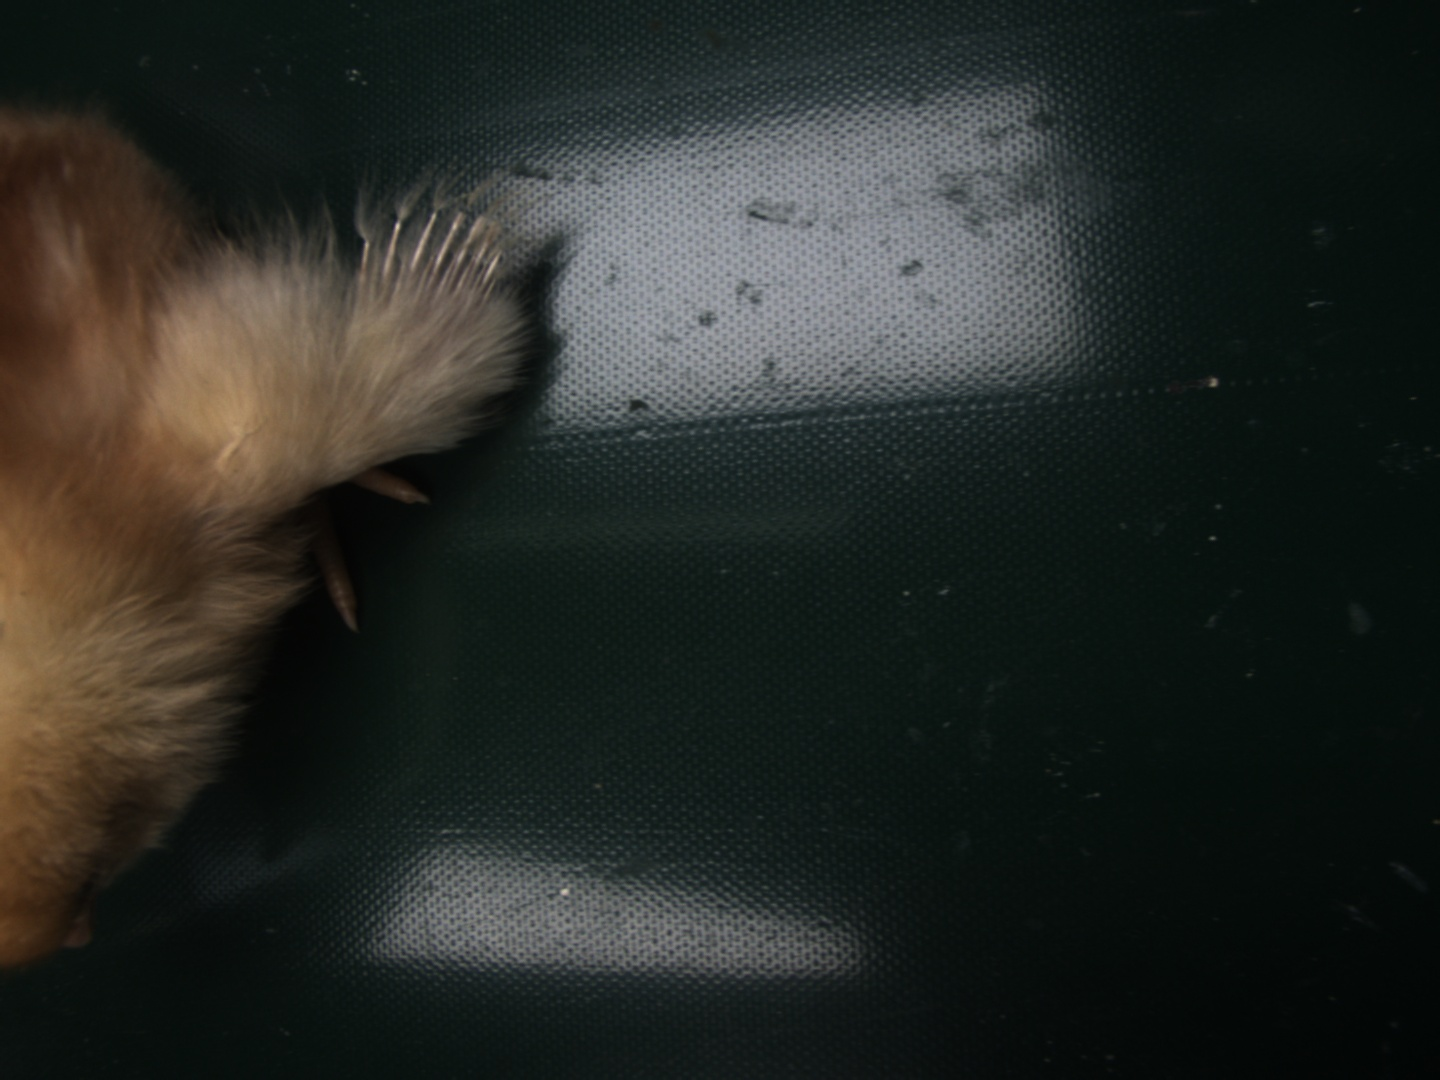female: (344, 209, 501, 314)
